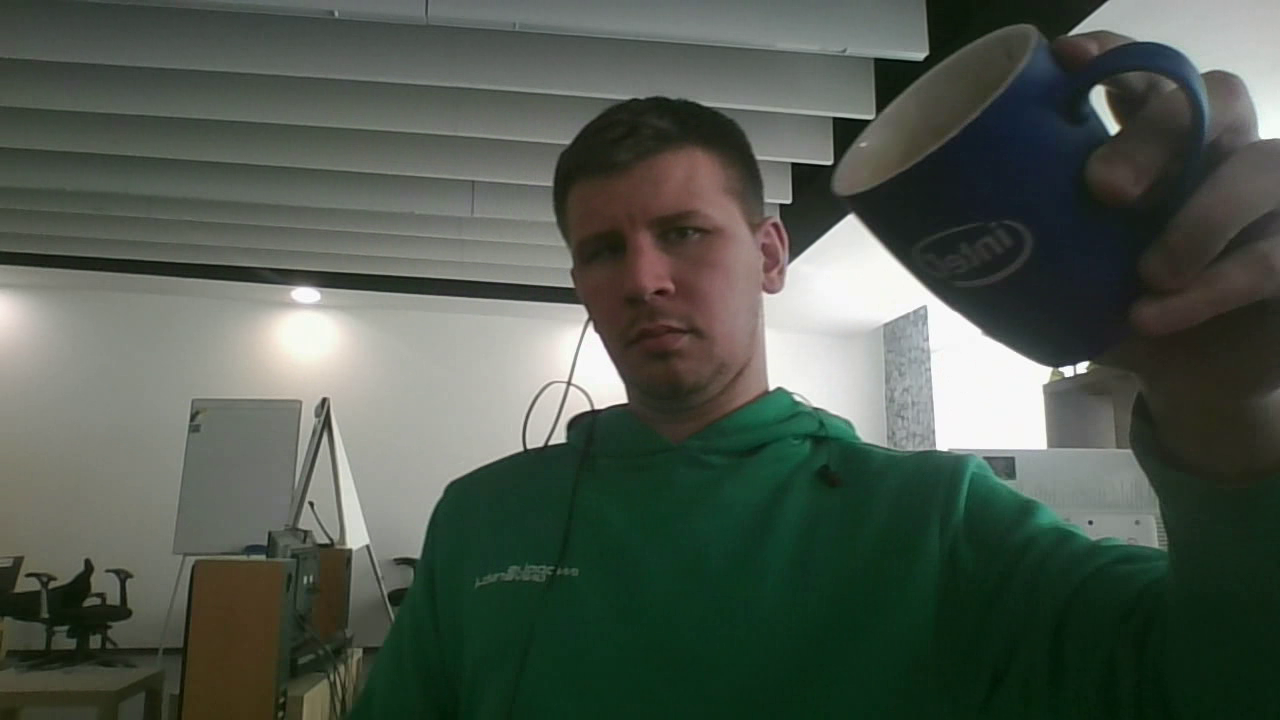cup: (831, 23, 1212, 369)
